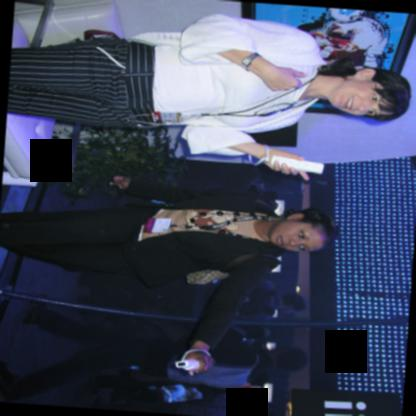handbag: (185, 254, 278, 285)
